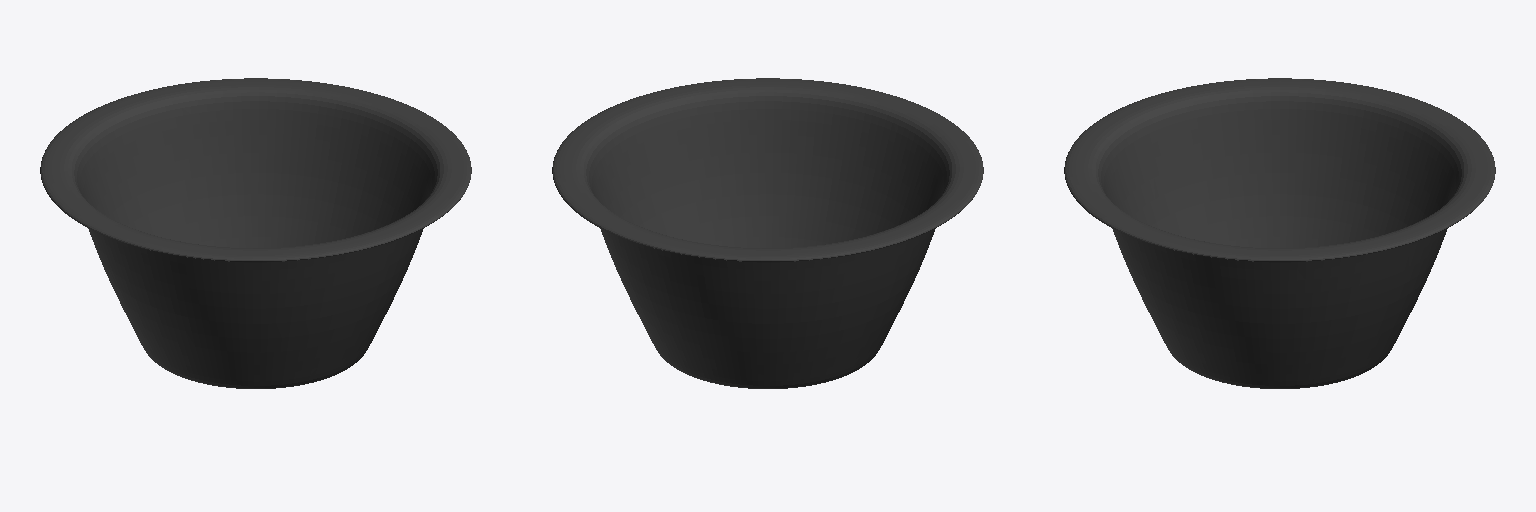
File: Metallschale.obj
The picture shows the model from 3 angles: view 1: azimuth 30°, elevation 25°; view 2: azimuth 150°, elevation 25°; view 3: azimuth 270°, elevation 25°; orthographic projection.
Parts seen in each view (by area): view 1: Metallschale; view 2: Metallschale; view 3: Metallschale.
Part boxes in pixels (left/top/right/bottom): Metallschale: left=40, top=78, right=471, bottom=388; Metallschale: left=552, top=78, right=983, bottom=388; Metallschale: left=1064, top=78, right=1495, bottom=388.
Bounding box in the file's own units: 0.1011 × 0.0456 × 0.1011.